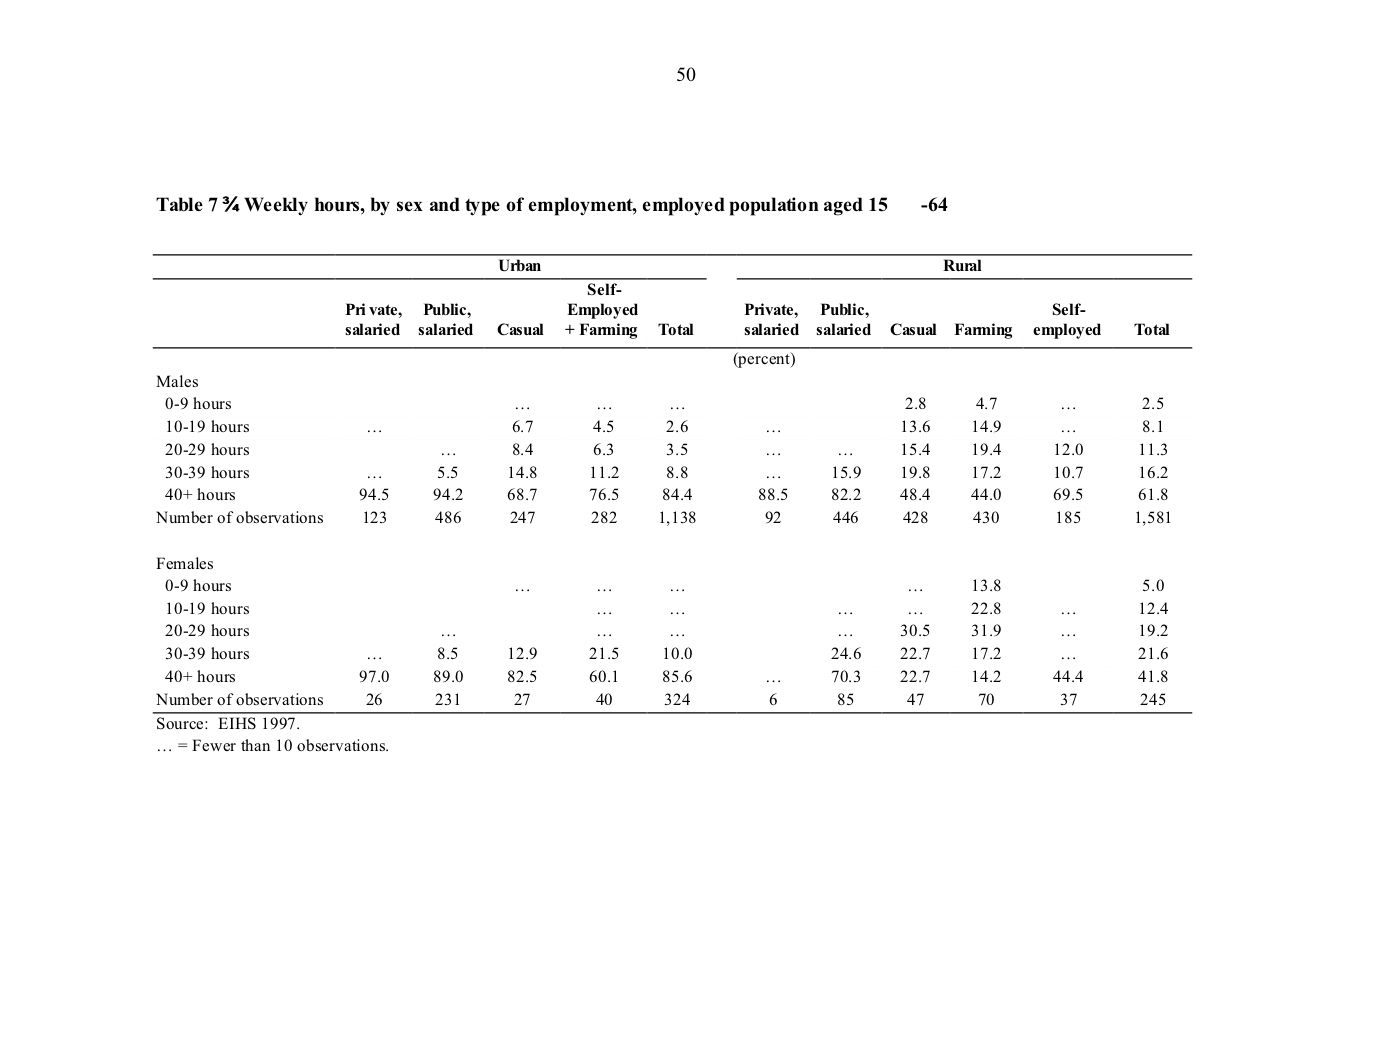Table: (152, 254, 1192, 713)
